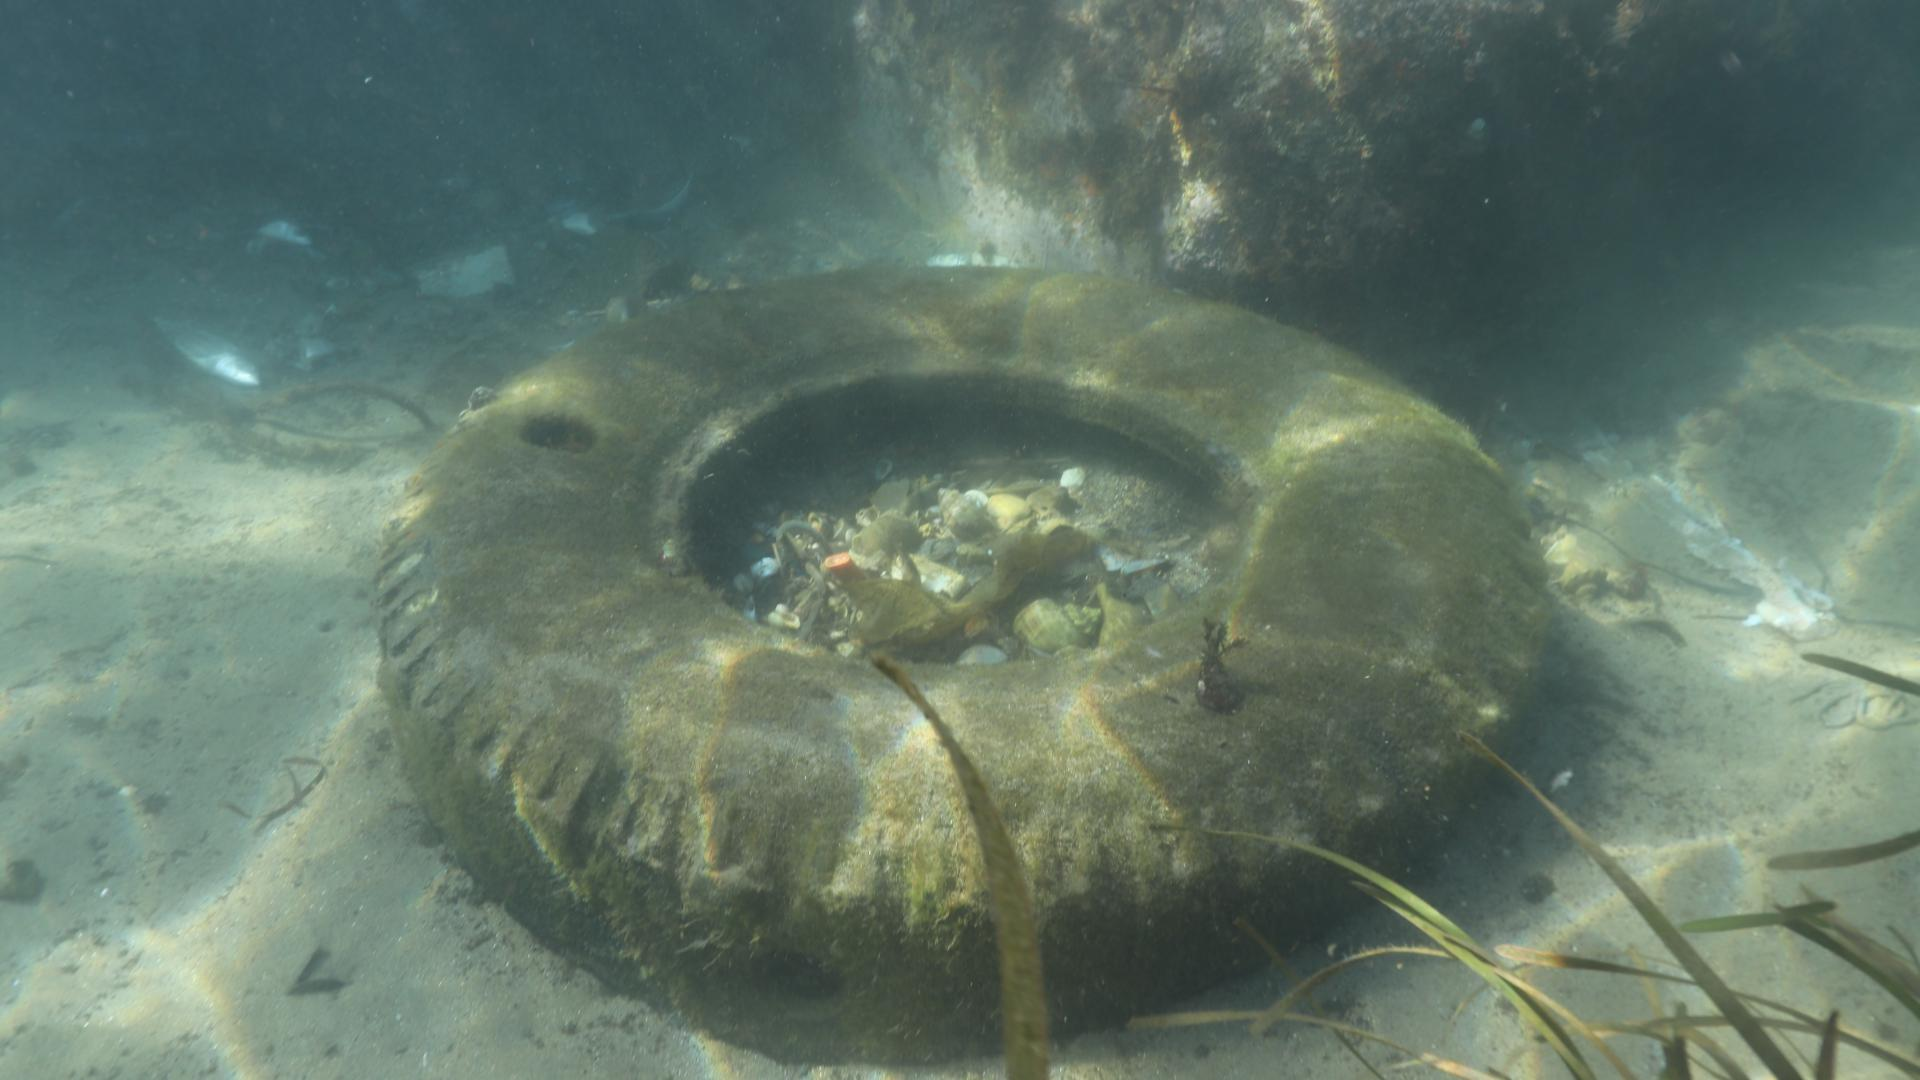tire: (371, 262, 1552, 1033)
